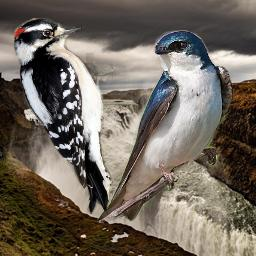Swallow: (97, 28, 234, 224)
Woodpecker: (14, 18, 113, 214)
